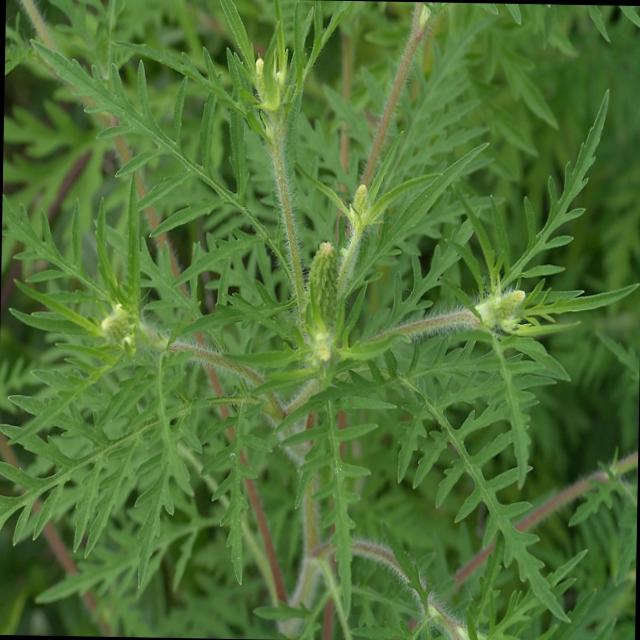ambrosia: (13, 186, 574, 508)
